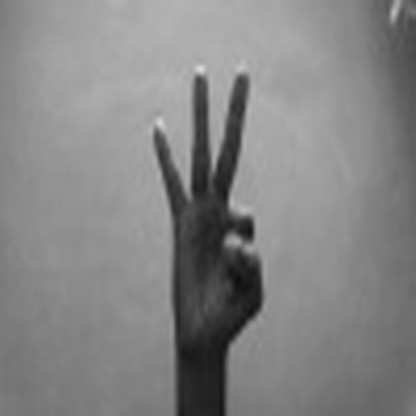f: (135, 58, 288, 353)
